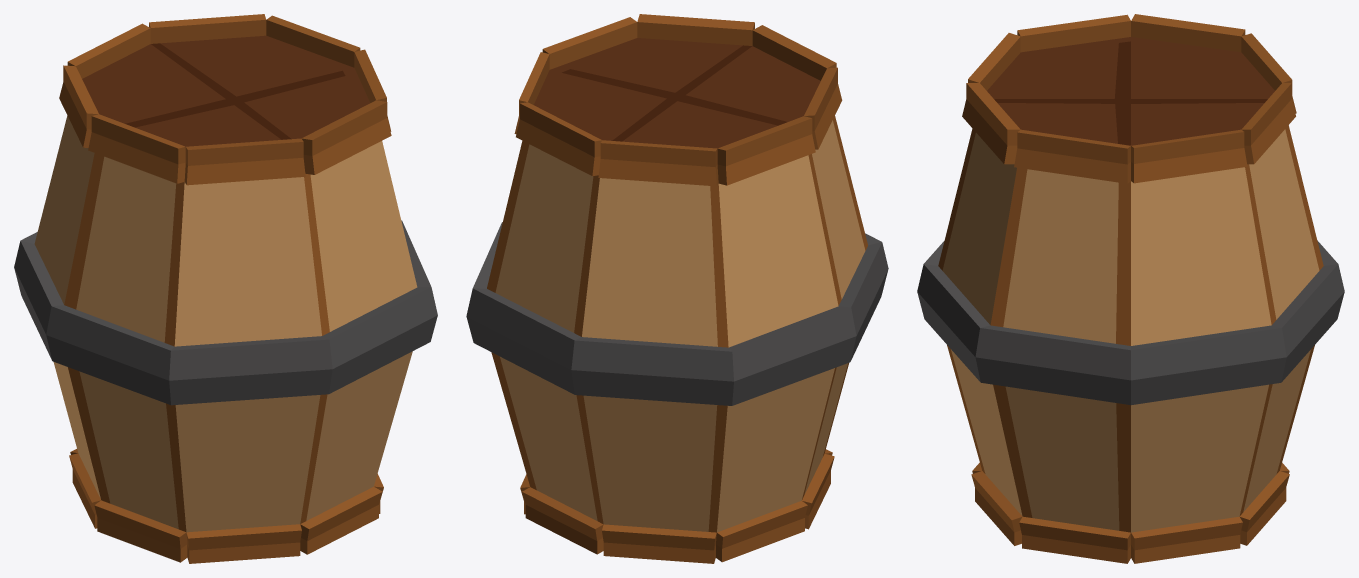
The model's file is barrel_Small_01.fbx.
3 renders of one model, left to right at view 1: azimuth 30°, elevation 25°; view 2: azimuth 150°, elevation 25°; view 3: azimuth 270°, elevation 25°, orthographic.
Parts seen in each view (by area): view 1: Cube; view 2: Cube; view 3: Cube.
Boxes of the visible parts, x1,y1,x2,y2 form: Cube: [14, 14, 437, 563]; Cube: [466, 14, 888, 563]; Cube: [917, 14, 1344, 563].
Size of the model in its own units: 326 by 360 by 333.
